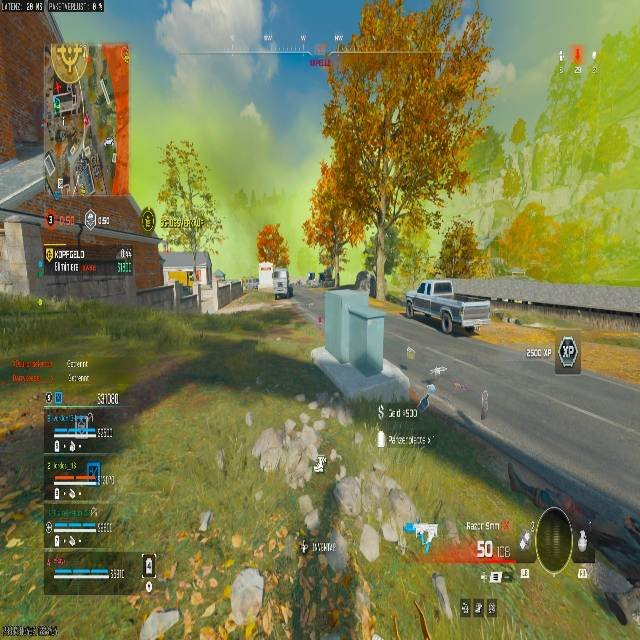player: (306, 272, 315, 285)
